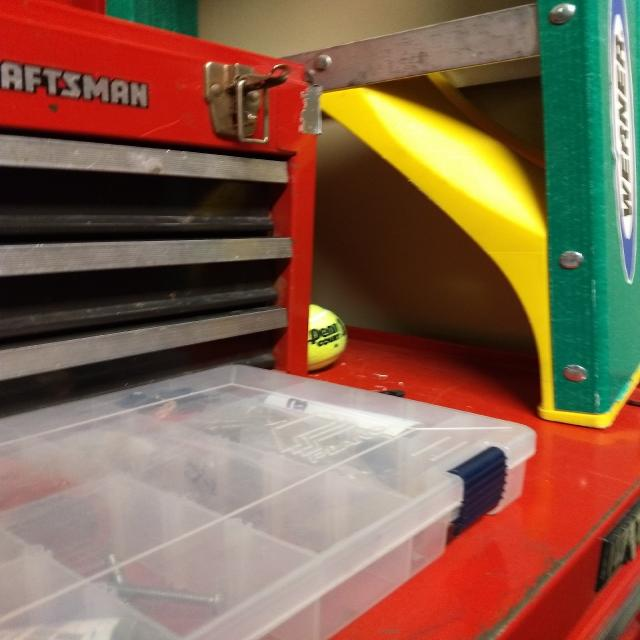Tennis-Ball: (306, 306, 346, 372)
